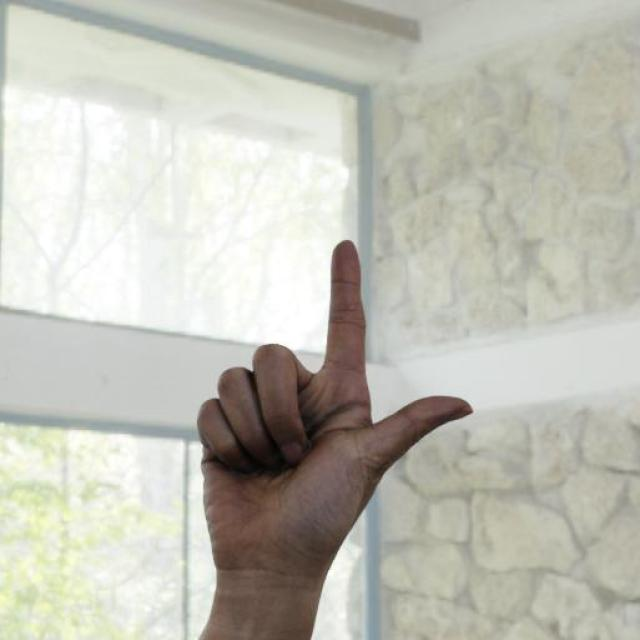L: (196, 237, 480, 569)
